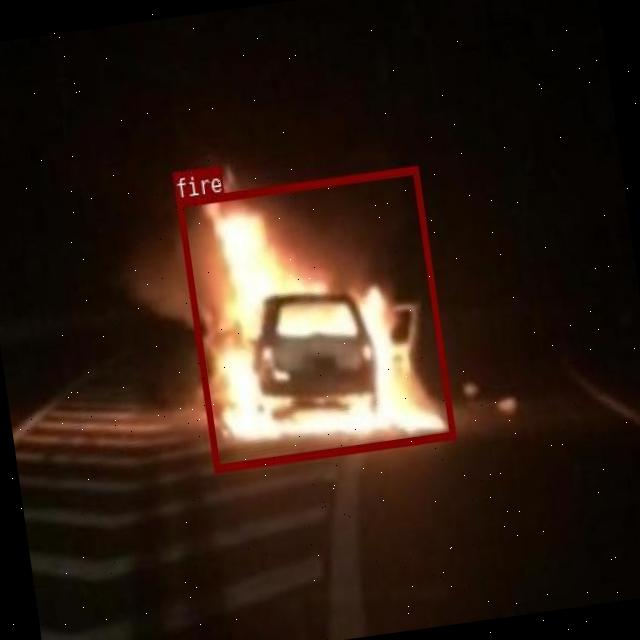fire: (176, 165, 454, 470)
